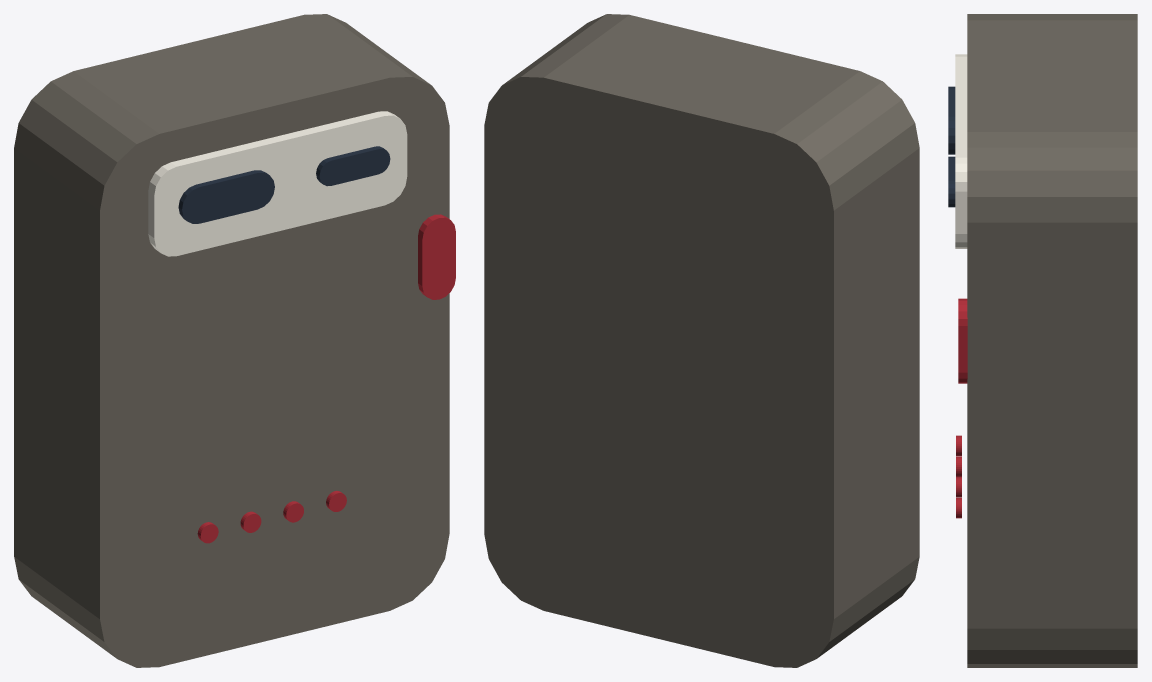
The model's file is powerbank.glb.
The picture shows the model from 3 angles, left to right: view 1: azimuth 30°, elevation 25°; view 2: azimuth 150°, elevation 25°; view 3: azimuth 270°, elevation 25°; orthographic projection.
Visible parts, largest first — view 1: body, port panel, port usb a, power key, port usb c; view 2: body; view 3: body, port panel, power key, port usb a, port usb c.
Boxes of the visible parts, <box> form: body: <box>14,14,449,667</box>; port panel: <box>148,111,407,256</box>; port usb a: <box>178,170,274,223</box>; power key: <box>418,214,455,299</box>; port usb c: <box>316,146,390,186</box>; body: <box>484,14,919,667</box>; body: <box>967,14,1137,667</box>; port panel: <box>955,54,967,248</box>; power key: <box>958,298,967,383</box>; port usb a: <box>948,86,955,154</box>; port usb c: <box>948,156,955,207</box>.
Size of the model in its own units: 0.945 by 1.37 by 0.4445.
